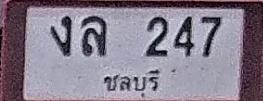2: (146, 16, 168, 56)
4: (174, 16, 194, 56)
7: (201, 16, 221, 57)
A07: (50, 14, 72, 56)
A36: (82, 15, 106, 56)
CBI: (96, 68, 164, 100)
